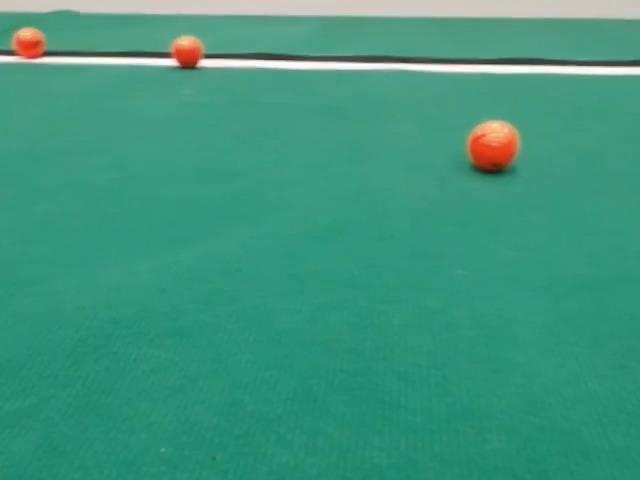Ball: (466, 120, 519, 172), (170, 35, 203, 68), (11, 27, 45, 58)
